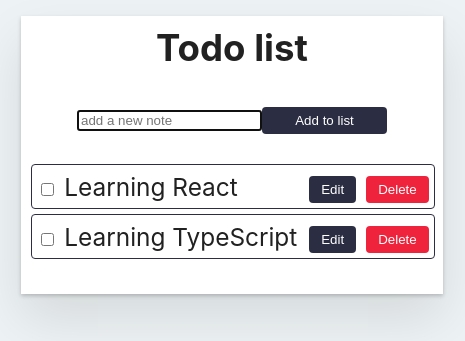
Test case: Test Todo list with initial data › Delete a note and there must be a single note on the list
The width and height of the screenshot is (465, 341).
Click the button "Delete" in the row of "Learning React": [397, 190] box top-left (366, 176), bottom-right (429, 203)
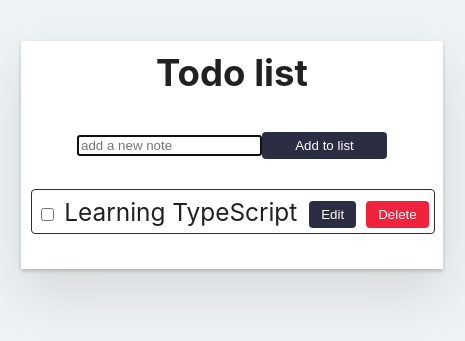
Check: the text "Learning TypeScript" is shown, box top-left (64, 197), bottom-right (297, 227)
Check: the text "Learning React" is gone
